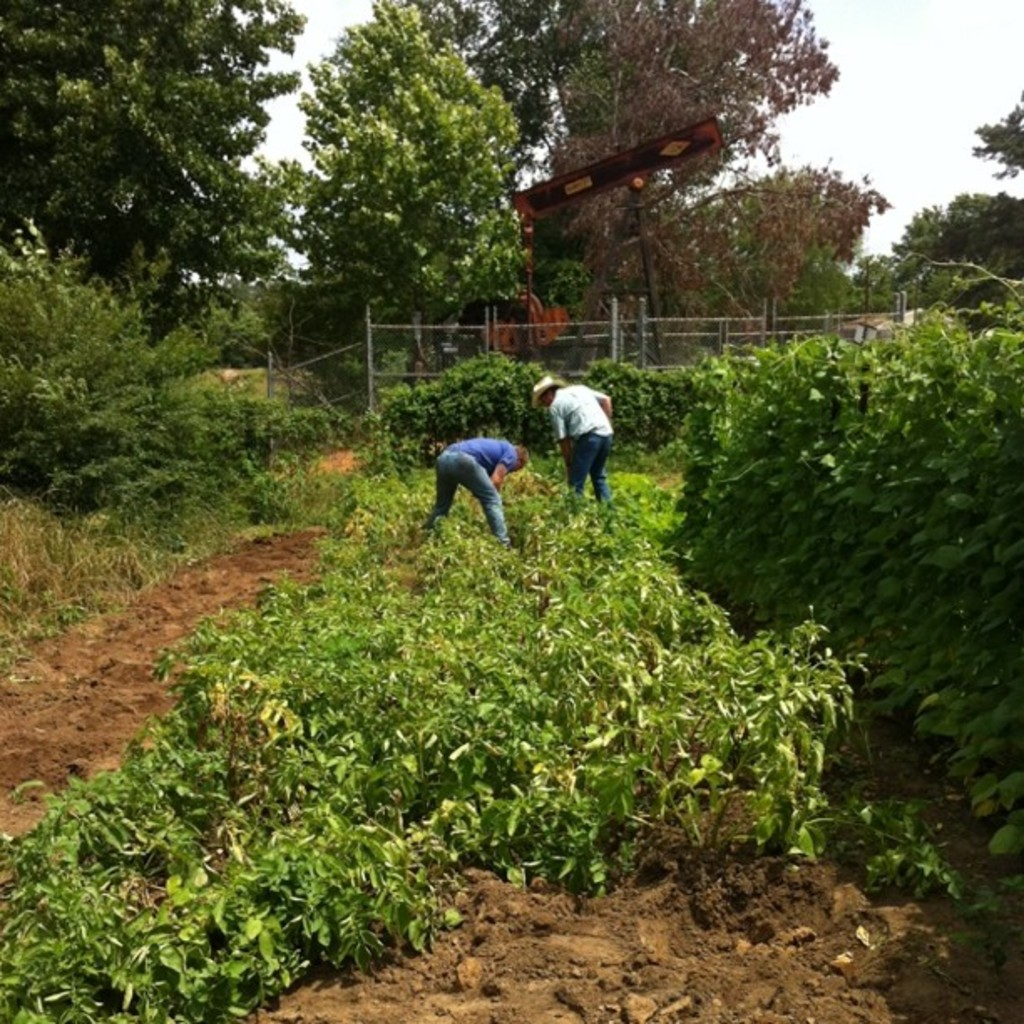Tree: (0, 0, 1024, 410)
